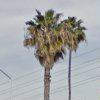Palm tree: (21, 7, 82, 99)
